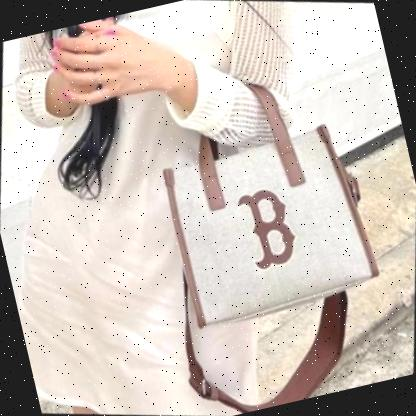bag: (143, 113, 405, 416)
